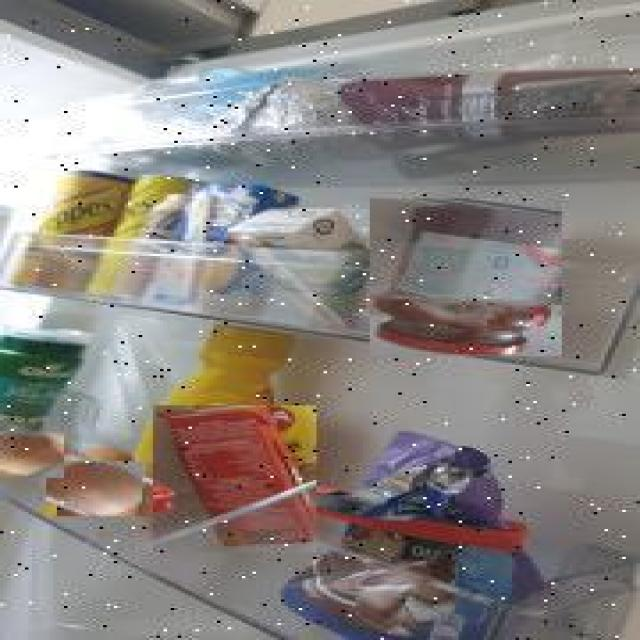egg: (46, 461, 142, 516), (0, 433, 64, 478)
marmelade: (370, 198, 562, 356)
tomato_sauce: (153, 406, 316, 552)
